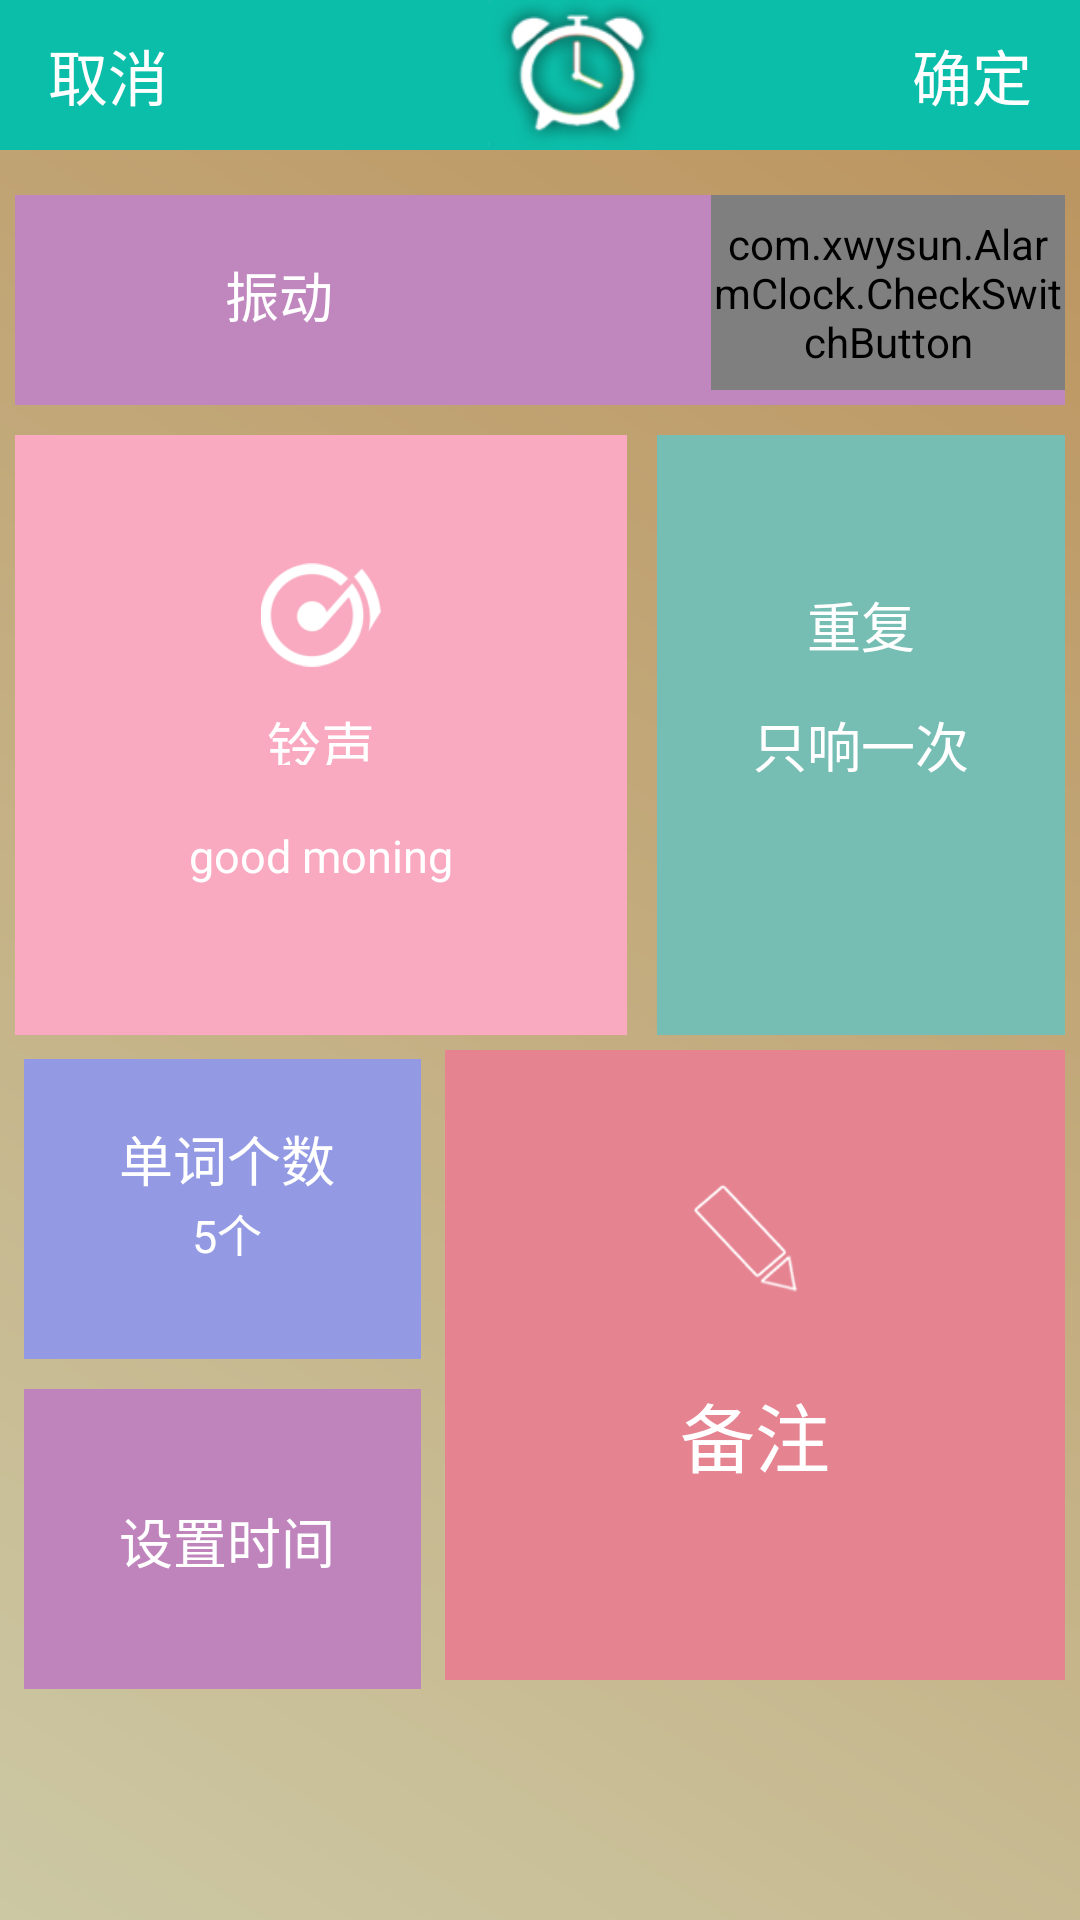

Named icons in this screenshot (1080×1920) and their bounding boxes, (left=x1, top=y1, right=x2, bottom=y2):
remark: (left=694, top=1185, right=797, bottom=1292)
ring: (left=261, top=563, right=381, bottom=667)
